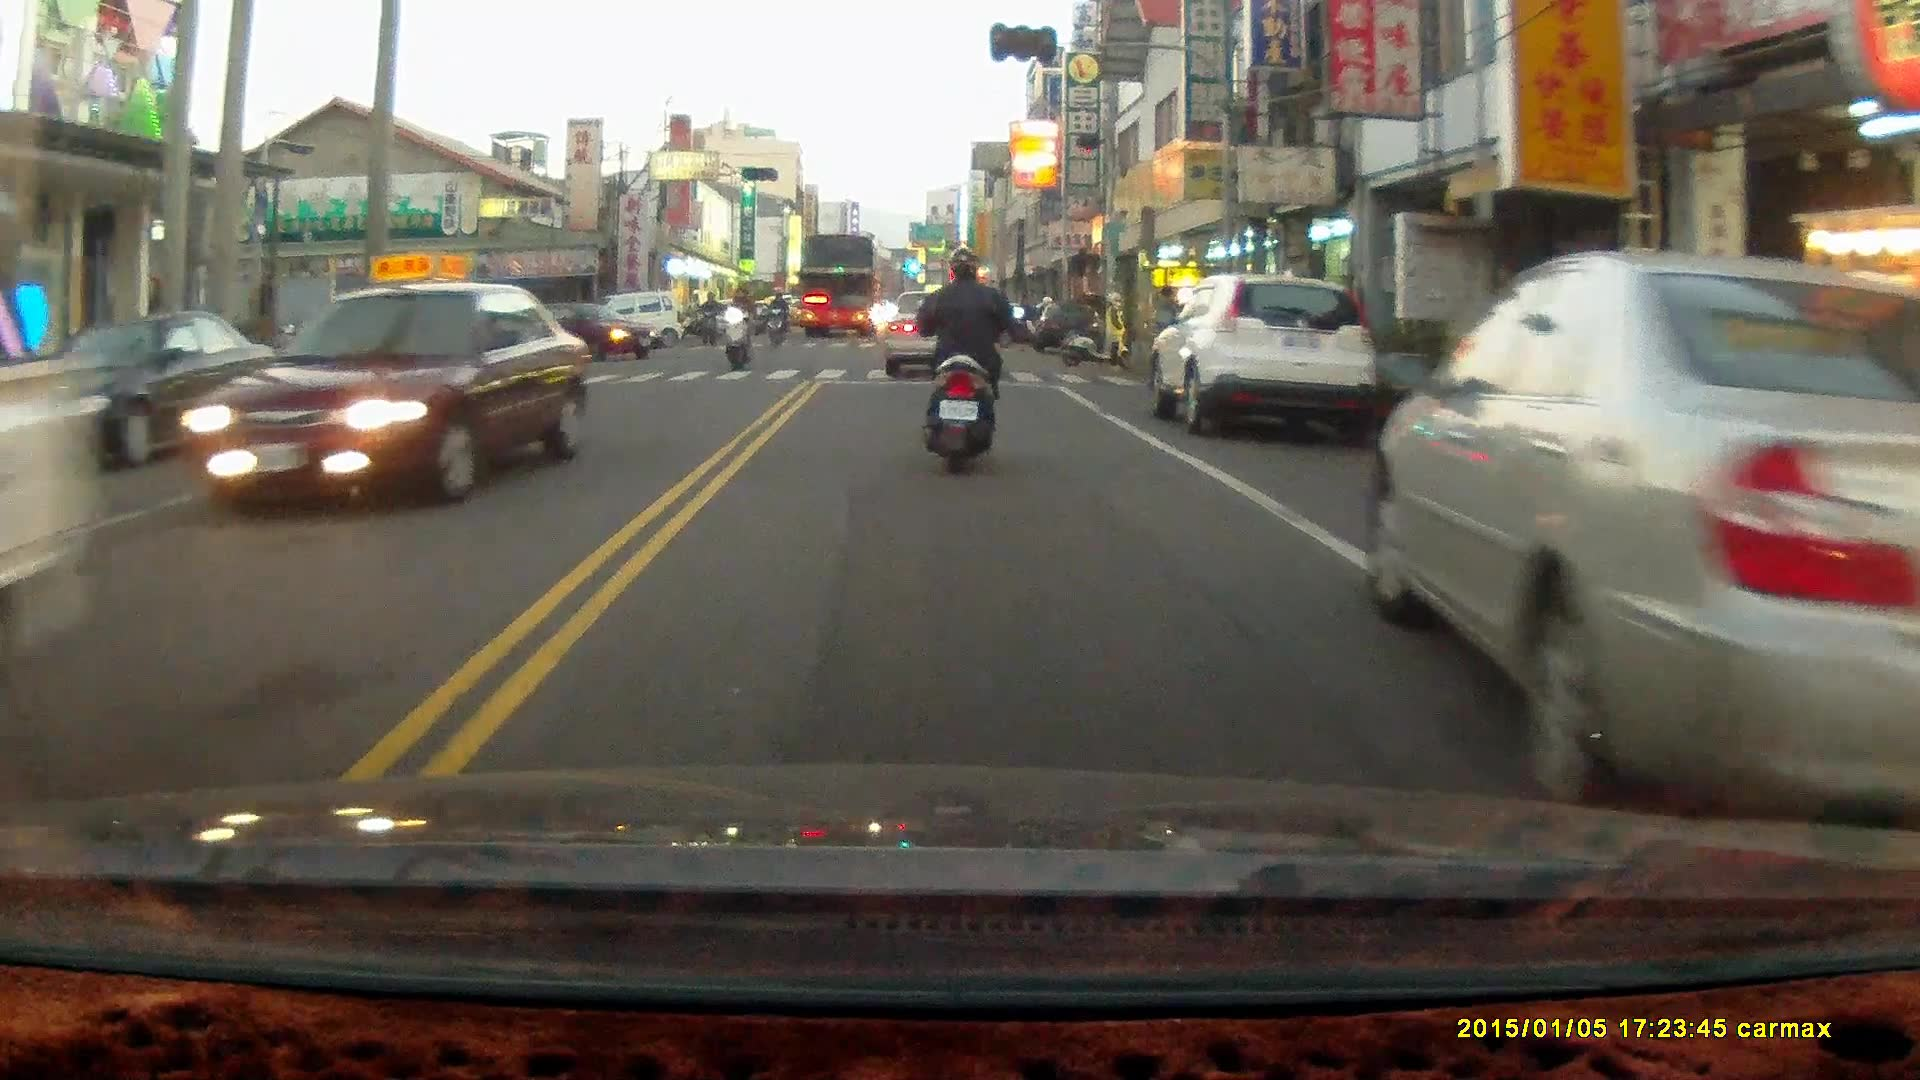pedestrian: (1151, 283, 1181, 383), (1099, 290, 1126, 372)
rider: (913, 244, 1025, 476), (719, 283, 754, 372), (695, 288, 719, 346), (765, 287, 786, 349)
vehicle: (1365, 248, 1920, 810), (176, 278, 599, 511), (27, 312, 269, 472), (1150, 275, 1376, 437), (795, 231, 882, 342), (881, 293, 985, 378)
